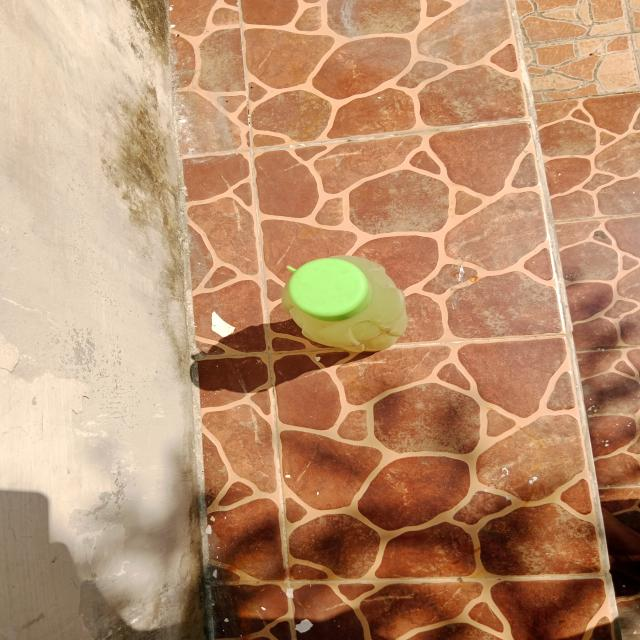botol_minum: (282, 251, 414, 361)
